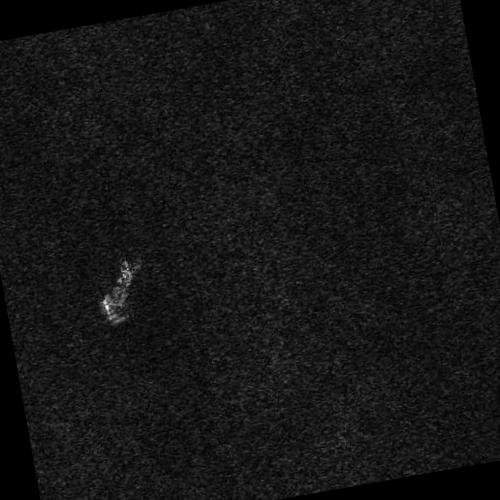ship: (103, 259, 138, 326)
